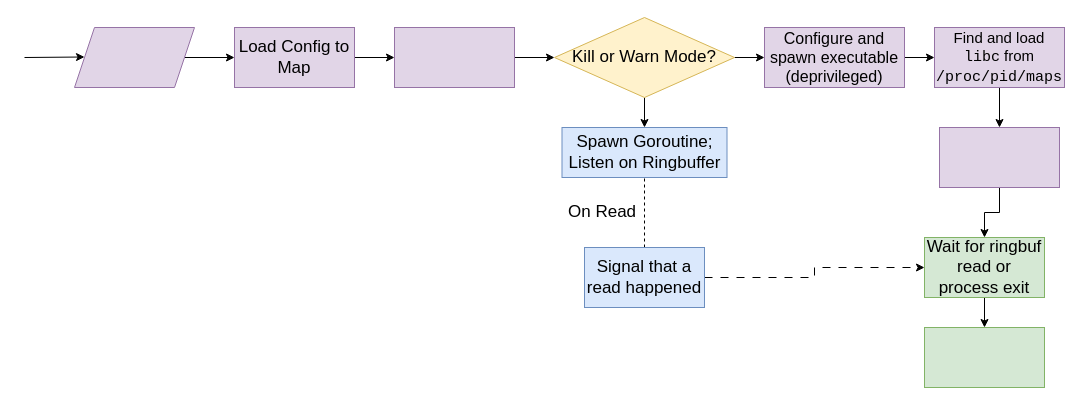
The diagram is 1082 pixels wide and 406 high, and some of its shapes have lost their labels. Here are the shapes that lost their labels. From the top down, the box of each, then its label:
(74, 26, 194, 88): Parse CLI Flags
(394, 26, 514, 88): Parse Whitelists and Load to Map
(938, 126, 1060, 188): Add PID to follow map (activate filer)
(924, 326, 1044, 388): Cleanup (cancel ctx ), exit
